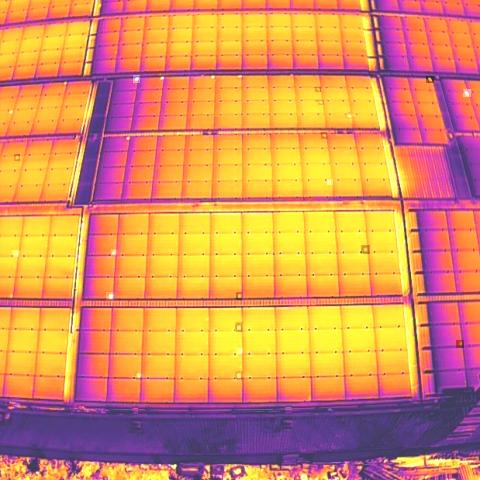fault: (361, 245, 370, 254), (236, 322, 244, 332), (236, 371, 244, 379), (456, 340, 464, 348), (106, 292, 114, 300), (463, 89, 471, 97), (6, 292, 14, 300), (426, 76, 434, 83), (133, 75, 140, 83), (209, 74, 218, 80), (136, 371, 142, 380), (236, 348, 243, 355), (346, 113, 353, 120), (13, 250, 20, 257), (236, 292, 242, 300), (159, 74, 165, 82), (111, 249, 117, 256), (125, 135, 131, 142), (321, 132, 327, 139), (14, 154, 20, 161), (328, 179, 334, 185), (236, 74, 243, 79), (318, 100, 324, 105), (316, 87, 322, 92), (62, 81, 67, 86), (9, 110, 13, 114)
